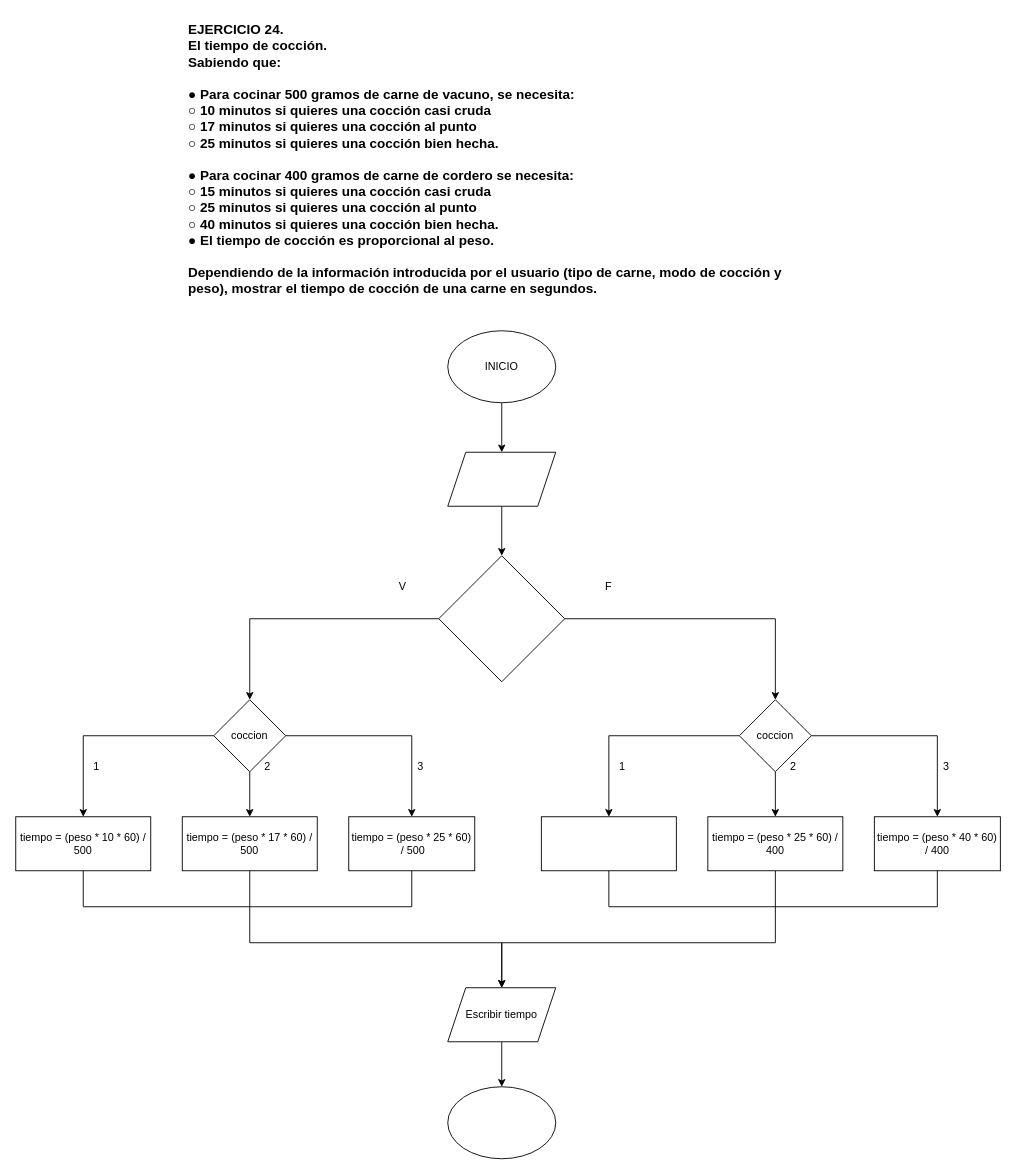
This 1016x1175 diagram has some shape labels left out. The shapes that lost their labels are listed below. From the top down, each one's centre as x and y in pixels, then its label:
point (501, 478): Leer carne, coccion, peso
point (501, 618): carne == "vacuno"
point (608, 843): tiempo = (peso * 15 * 60) / 400
point (501, 1122): FIN
